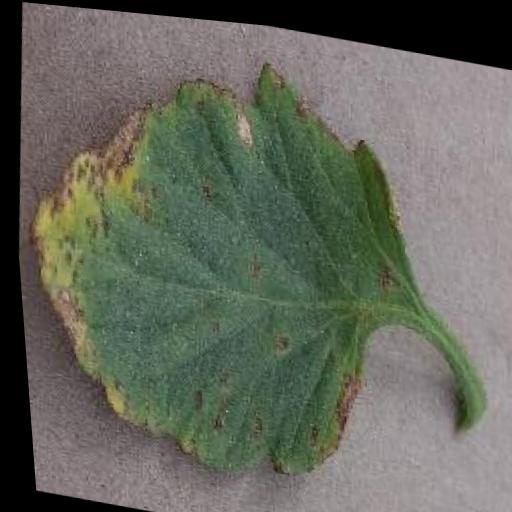Bacterial Spot: (1, 11, 446, 512)
